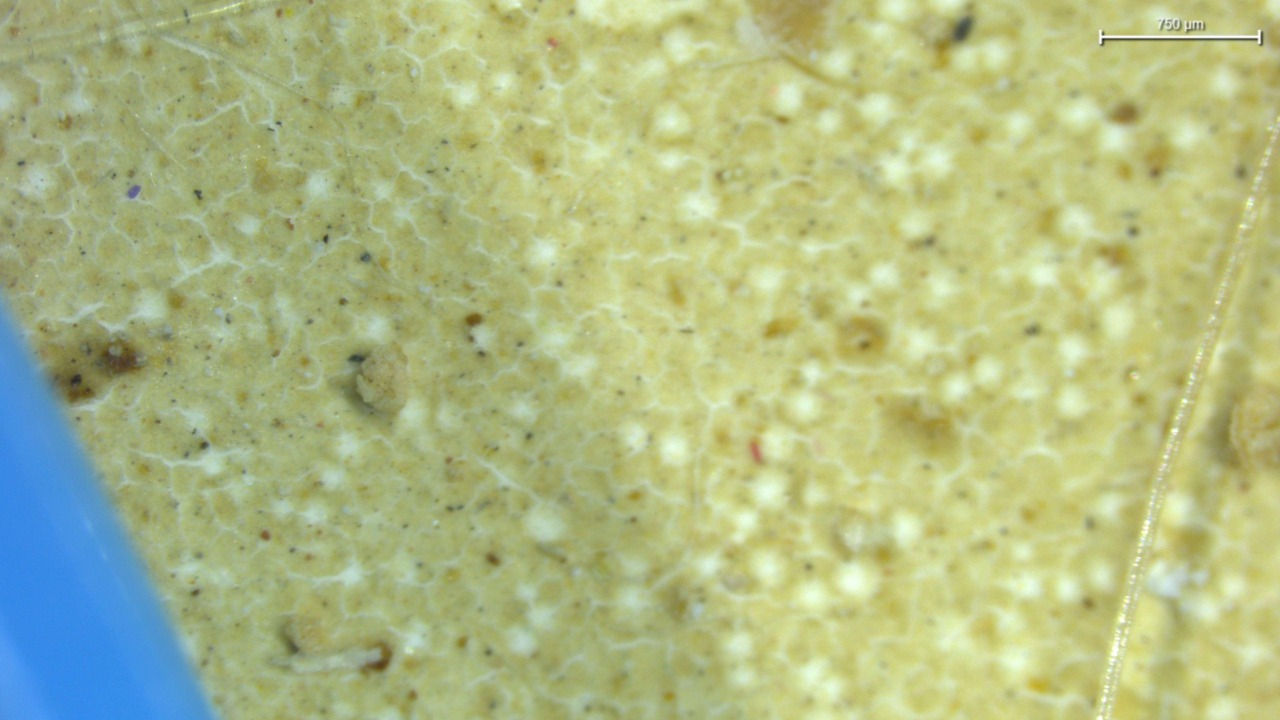microplastic_fragment: (356, 344, 408, 413)
